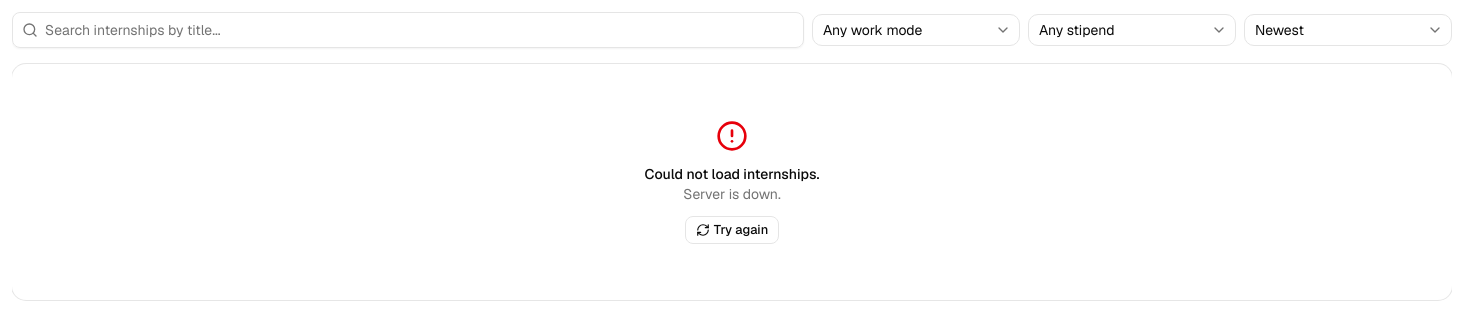
Test case: OpportunityListView › shows an error state with retry, and retry refetches
Expected: the text "Server is down." is shown, [683,185,781,203]
Click the button "Try again" at (732, 230), box [685,216,779,244]
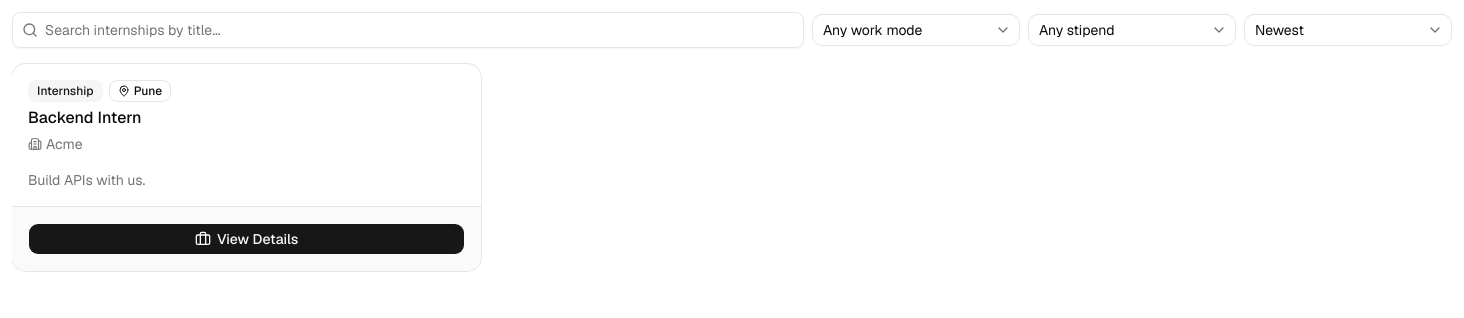
Expected: the text "Backend Intern" is shown, [28,107,141,128]
